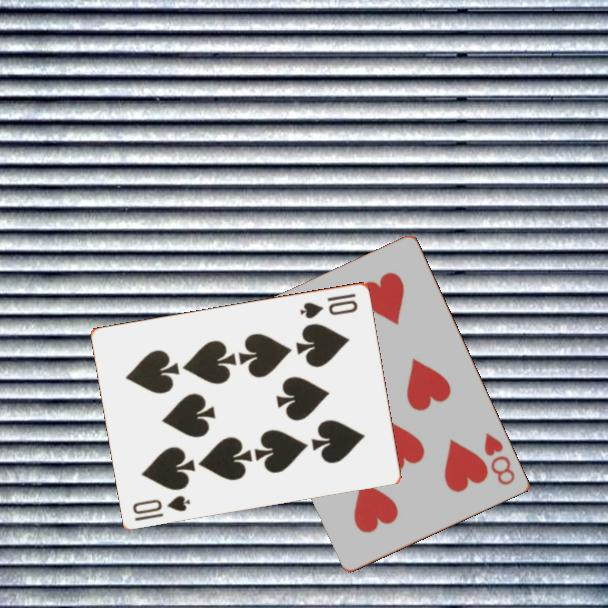h08: (481, 429, 518, 488)
s10: (129, 491, 193, 524), (297, 289, 361, 321)
